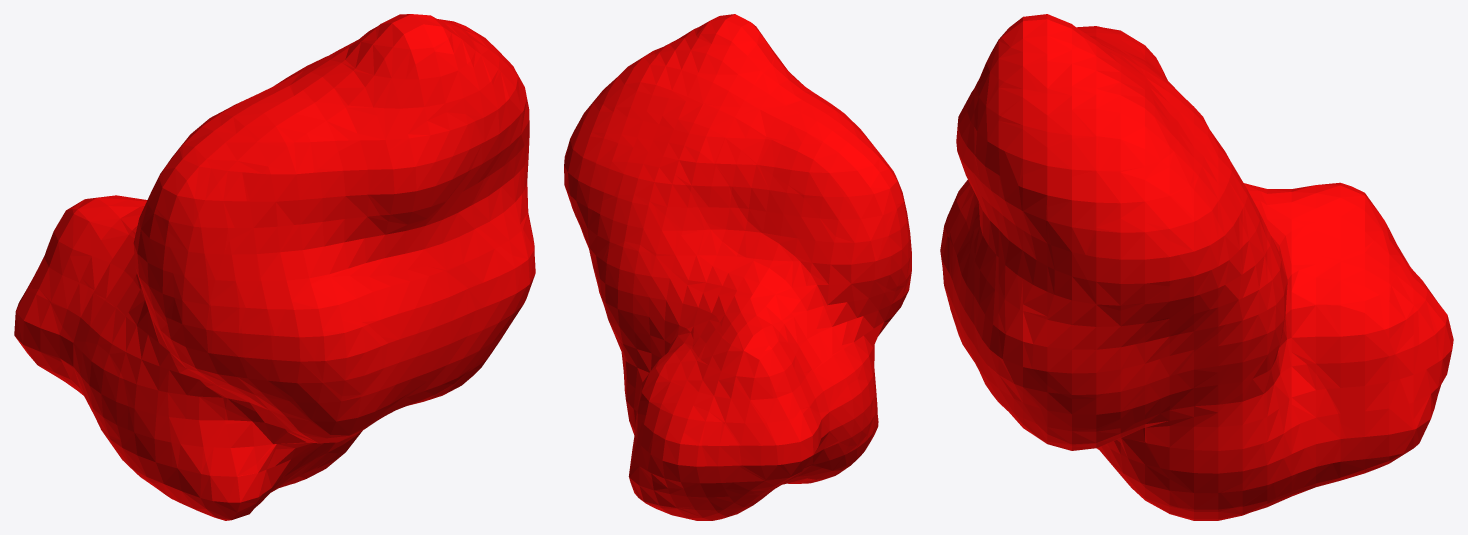
Rendered from cnu_coarse.dae.
The picture shows the model from 3 angles, left to right: view 1: azimuth 30°, elevation 25°; view 2: azimuth 150°, elevation 25°; view 3: azimuth 270°, elevation 25°; orthographic projection. The views are drawn at different scales.
Parts seen in each view (by area): view 1: cnu; view 2: cnu; view 3: cnu.
Part boxes in pixels (box(x1,y1,x2,y2)): cnu: box(14, 14, 535, 520); cnu: box(564, 14, 911, 520); cnu: box(940, 14, 1453, 520).
Bounding box in the file's own units: 31.85 × 39.03 × 34.53.
